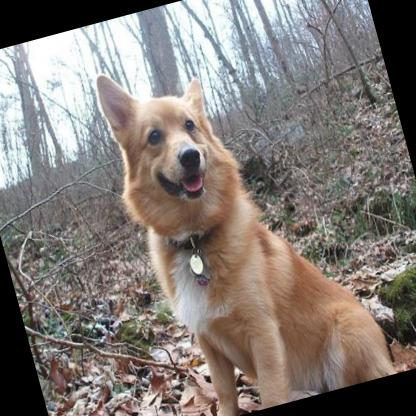Pembroke: (86, 12, 400, 416)
